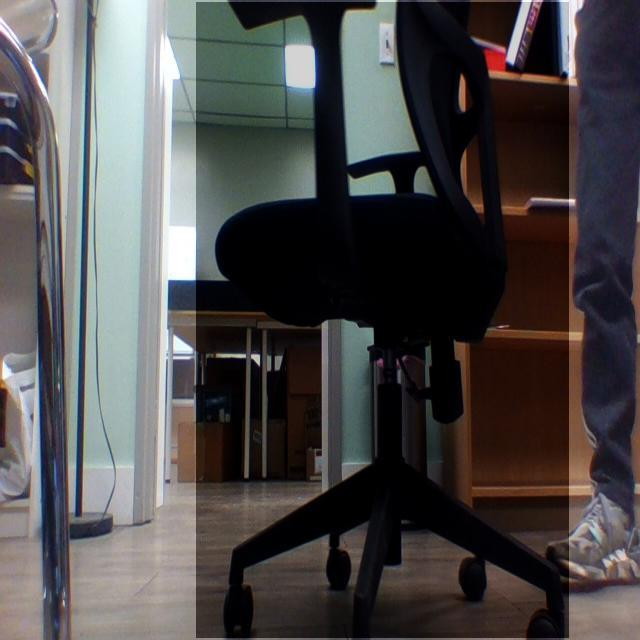chair: (196, 1, 570, 638)
